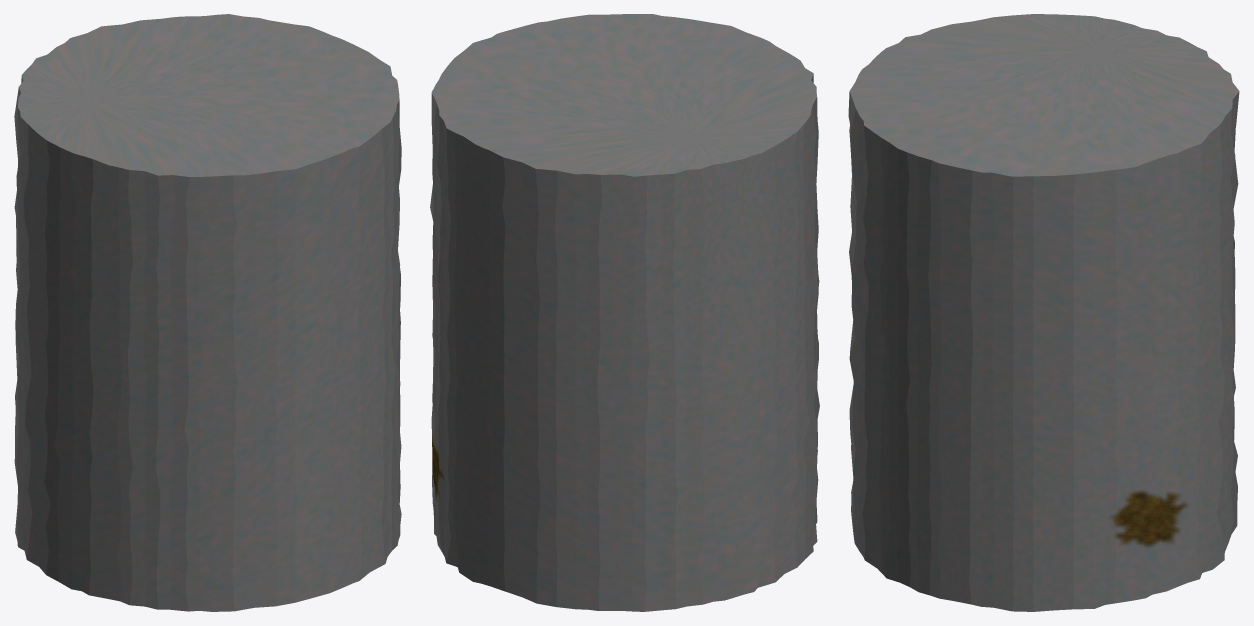
File: barrel_38.dae
3 views of the same model, side by side, from view 1: azimuth 30°, elevation 25°; view 2: azimuth 150°, elevation 25°; view 3: azimuth 270°, elevation 25° (orthographic).
Visible parts, largest first — view 1: Cylinder; view 2: Cylinder; view 3: Cylinder.
Part boxes in pixels (x1,y1,x2,y2): Cylinder: (14,14,401,611); Cylinder: (430,14,819,611); Cylinder: (848,14,1239,611).
Bounding box in the file's own units: 0.8182 × 0.8149 × 1.
1 material, 1 textured.
